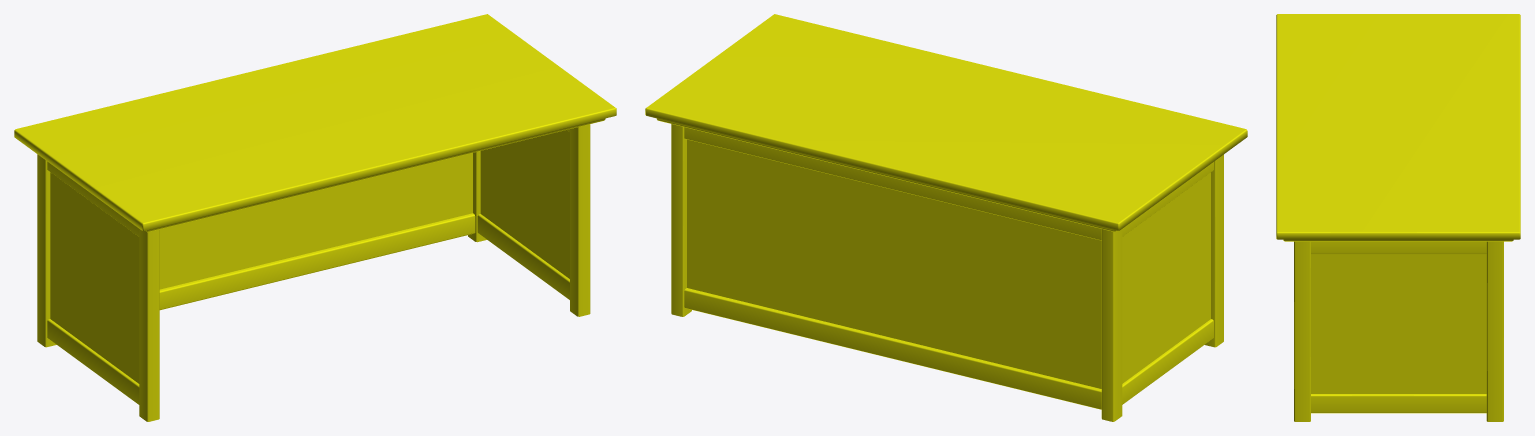
Rendered from SM_ComputerDesk.fbx.
The picture shows the model from 3 angles, left to right: view 1: azimuth 30°, elevation 25°; view 2: azimuth 150°, elevation 25°; view 3: azimuth 270°, elevation 25°; orthographic projection. The views are drawn at different scales.
Parts seen in each view (by area): view 1: SM_ComputerDesk; view 2: SM_ComputerDesk; view 3: SM_ComputerDesk.
Part boxes in pixels (left/top/right/bottom): SM_ComputerDesk: left=14, top=14, right=616, bottom=421; SM_ComputerDesk: left=645, top=14, right=1247, bottom=421; SM_ComputerDesk: left=1276, top=14, right=1520, bottom=421.
Bounding box in the file's own units: 211 × 88.63 × 99.45.
